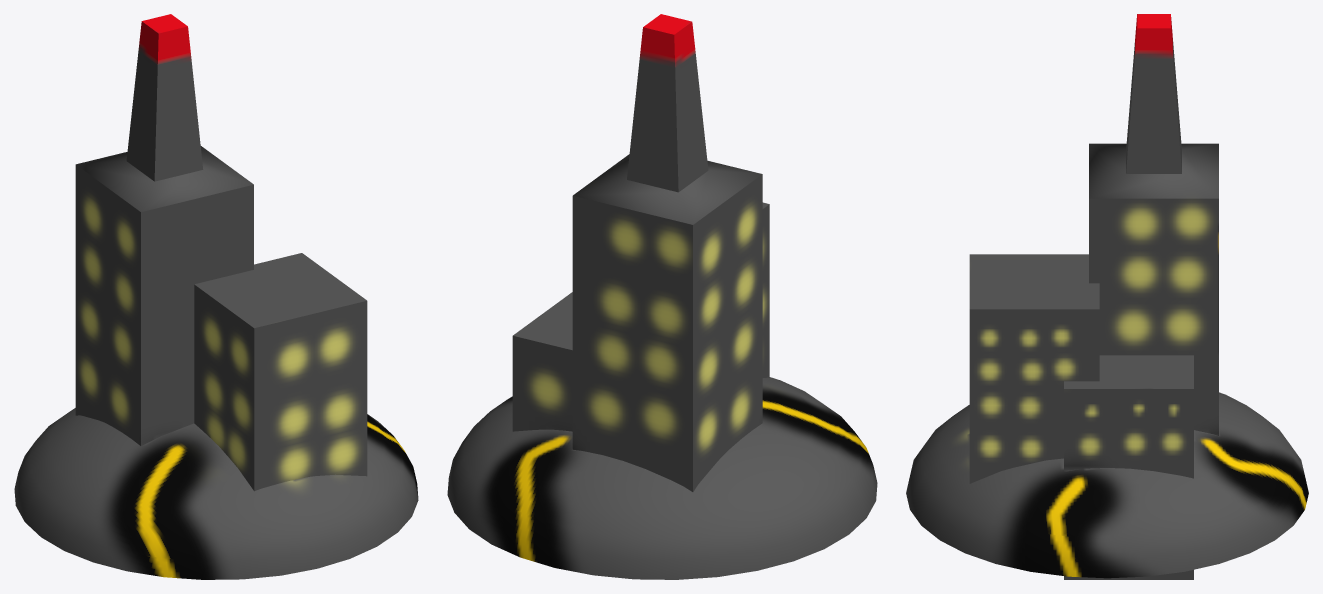
The model's file is mesh_city.gltf.
3 renders of one model, left to right at view 1: azimuth 30°, elevation 25°; view 2: azimuth 150°, elevation 25°; view 3: azimuth 270°, elevation 25°, orthographic. The views are drawn at different scales.
Visible parts, largest first — view 1: Cube.002; view 2: Cube.002; view 3: Cube.002.
Boxes of the visible parts, x1,y1,x2,y2 form: Cube.002: [14, 14, 418, 579]; Cube.002: [447, 14, 877, 579]; Cube.002: [906, 14, 1308, 579].
Size of the model in its own units: 2 by 2.73 by 2.
Materials: 1 (1 with a texture image).
